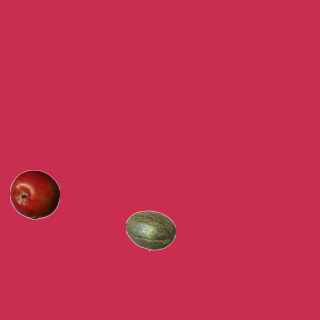Apple Braeburn: (9, 169, 59, 219)
Melon Piel de Sapo: (125, 205, 175, 255)
